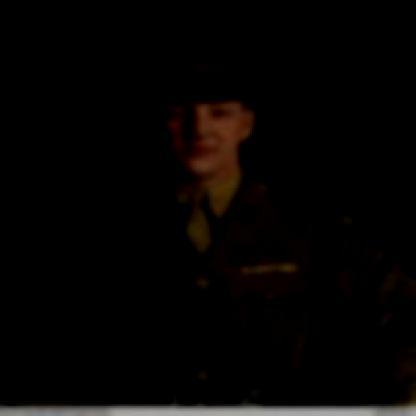without_mask: (152, 102, 238, 166)
